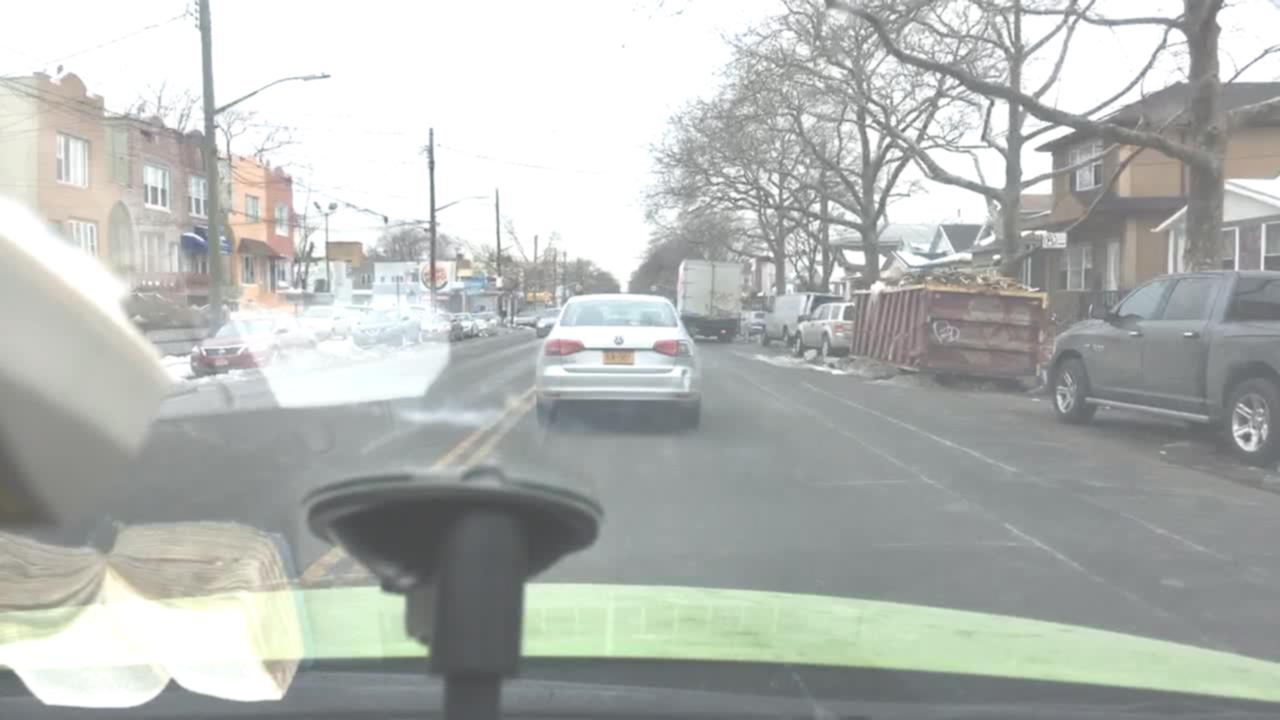Volkswagen: (612, 334, 624, 346)
